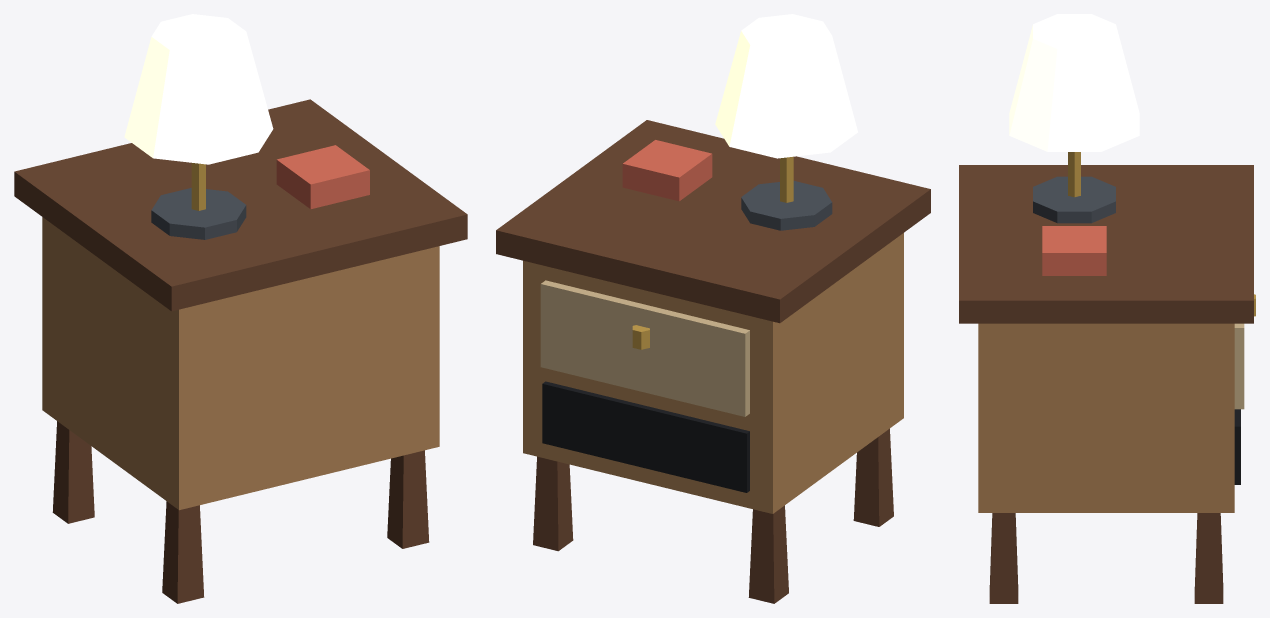
File: nightstand.glb
3 views of the same model, side by side, from view 1: azimuth 30°, elevation 25°; view 2: azimuth 150°, elevation 25°; view 3: azimuth 270°, elevation 25° (orthographic). The views are drawn at different scales.
Parts seen in each view (by area): view 1: Body; view 2: Body; view 3: Body.
Part boxes in pixels (<box>): Body: <box>14,14,467,603</box>; Body: <box>496,14,930,603</box>; Body: <box>959,14,1255,603</box>.
Bounding box in the file's own units: 0.5 × 0.84 × 0.463.
